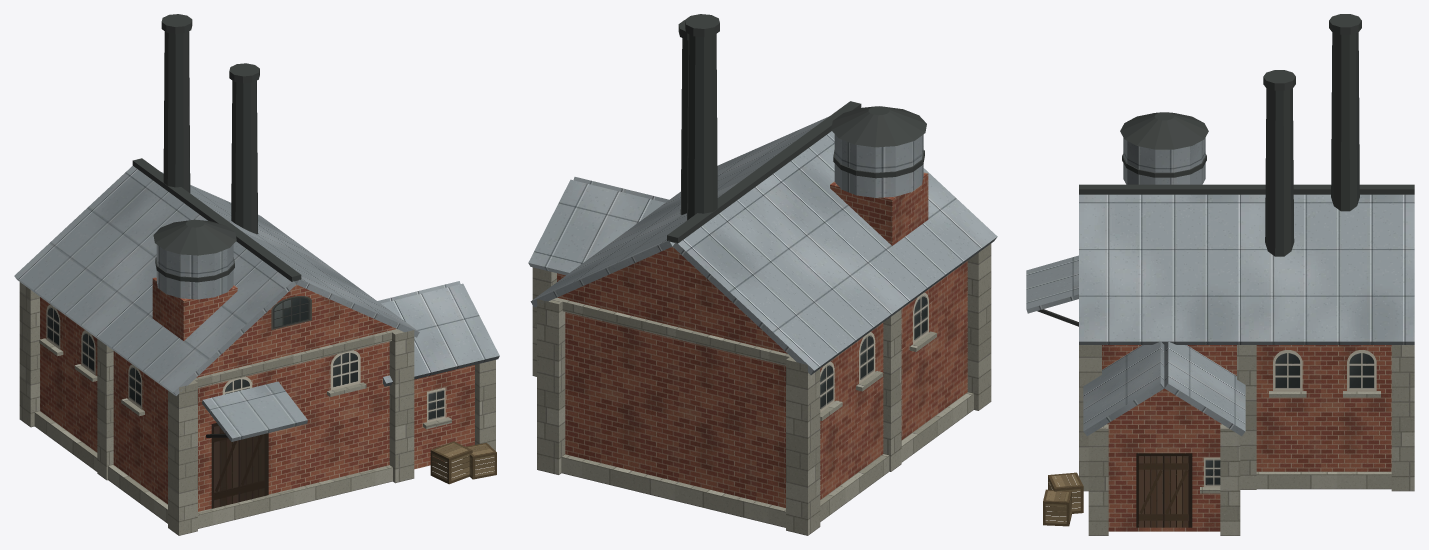
The model's file is foundry.glb.
The picture shows the model from 3 angles, left to right: view 1: azimuth 30°, elevation 25°; view 2: azimuth 150°, elevation 25°; view 3: azimuth 270°, elevation 25°; orthographic projection. The views are drawn at different scales.
Visible parts, largest first — view 1: halle, toit_pan_arriere, chaine_angle (×4), annexe_toit_pan_avant, toit_pignon_b, socle, toit_pan_avant, annexe, cheminee_1, auvent, porte, cheminee_2 (+8 smaller); view 2: halle, toit_pan_arriere, chaine_angle (×4), toit_pignon_a, socle, annexe_toit_pan_arriere, toit_pan_avant, cheminee_1, reservoir, reservoir_socle, reservoir_toit, bandeau (+6 smaller); view 3: toit_pan_avant, halle, chaine_angle (×4), annexe, cheminee_1, cheminee_2, annexe_toit_pan_arriere, annexe_toit_pan_avant, porte, toit_faitage, fenetre (×3), reservoir (+9 smaller).
Boxes of the visible parts, x1=… form: halle: x1=40, y1=297, x2=389, y2=511; toit_pan_arriere: x1=14, y1=166, x2=296, y2=396; chaine_angle (×4): x1=19, y1=282, x2=495, y2=535; annexe_toit_pan_avant: x1=381, y1=283, x2=499, y2=386; toit_pignon_b: x1=196, y1=284, x2=396, y2=377; socle: x1=34, y1=411, x2=392, y2=528; toit_pan_avant: x1=161, y1=172, x2=419, y2=337; annexe: x1=414, y1=365, x2=474, y2=469; cheminee_1: x1=163, y1=31, x2=190, y2=192; auvent: x1=202, y1=381, x2=307, y2=441; porte: x1=211, y1=423, x2=268, y2=508; cheminee_2: x1=231, y1=80, x2=258, y2=234; halle: x1=565, y1=261, x2=967, y2=507; toit_pan_arriere: x1=672, y1=131, x2=997, y2=374; chaine_angle (×4): x1=532, y1=244, x2=991, y2=535; toit_pignon_a: x1=557, y1=246, x2=787, y2=353; socle: x1=561, y1=392, x2=973, y2=527; annexe_toit_pan_arriere: x1=528, y1=179, x2=665, y2=275; toit_pan_avant: x1=530, y1=116, x2=828, y2=307; cheminee_1: x1=687, y1=34, x2=717, y2=220; reservoir: x1=834, y1=134, x2=923, y2=197; reservoir_socle: x1=830, y1=172, x2=928, y2=245; reservoir_toit: x1=831, y1=106, x2=926, y2=147; bandeau: x1=554, y1=297, x2=790, y2=365; toit_pan_avant: x1=1079, y1=194, x2=1414, y2=344; halle: x1=1102, y1=345, x2=1391, y2=471; chaine_angle (×4): x1=1079, y1=345, x2=1414, y2=535; annexe: x1=1108, y1=424, x2=1220, y2=531; cheminee_1: x1=1331, y1=32, x2=1359, y2=211; cheminee_2: x1=1265, y1=88, x2=1294, y2=256; annexe_toit_pan_arriere: x1=1164, y1=341, x2=1245, y2=436; annexe_toit_pan_avant: x1=1083, y1=341, x2=1164, y2=436; porte: x1=1136, y1=453, x2=1192, y2=527; toit_faitage: x1=1079, y1=184, x2=1414, y2=194; fenetre (×3): x1=1204, y1=350, x2=1376, y2=487; reservoir: x1=1123, y1=138, x2=1205, y2=184.
Size of the model in its own units: 2.43 by 2.78 by 2.36.
Materials: 12 (10 with a texture image).
